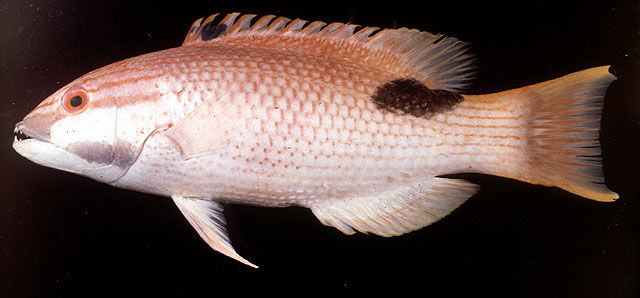fish: (13, 13, 620, 269)
